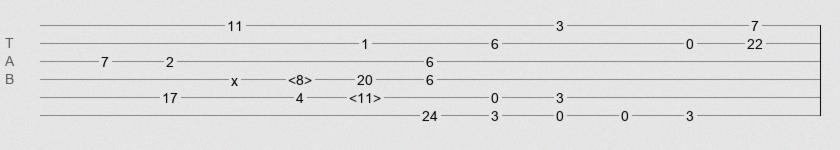0: (491, 90, 499, 100), (556, 108, 564, 118), (621, 108, 629, 118), (686, 36, 694, 46)
1: (361, 36, 369, 46)
11: (227, 18, 243, 28)
17: (162, 90, 178, 100)
2: (166, 54, 174, 64)
20: (357, 72, 373, 82)
22: (747, 36, 763, 46)
24: (422, 108, 438, 118)
3: (491, 108, 499, 118), (556, 90, 564, 100), (556, 18, 564, 28), (686, 108, 694, 118)
4: (296, 90, 304, 100)
6: (426, 54, 434, 64), (426, 72, 434, 82), (491, 36, 499, 46)
7: (101, 54, 109, 64), (751, 18, 759, 28)
harmonic: (349, 90, 381, 100), (288, 72, 312, 82)
x: (231, 73, 238, 81)
